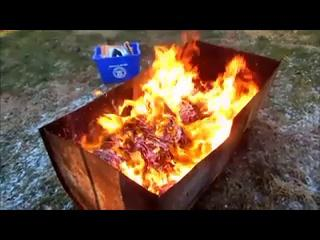fire: (99, 32, 261, 197)
